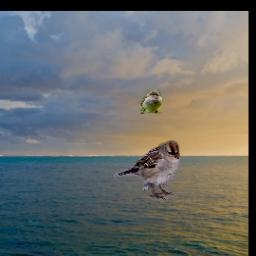Sparrow: (113, 141, 181, 201), (141, 90, 163, 114)
